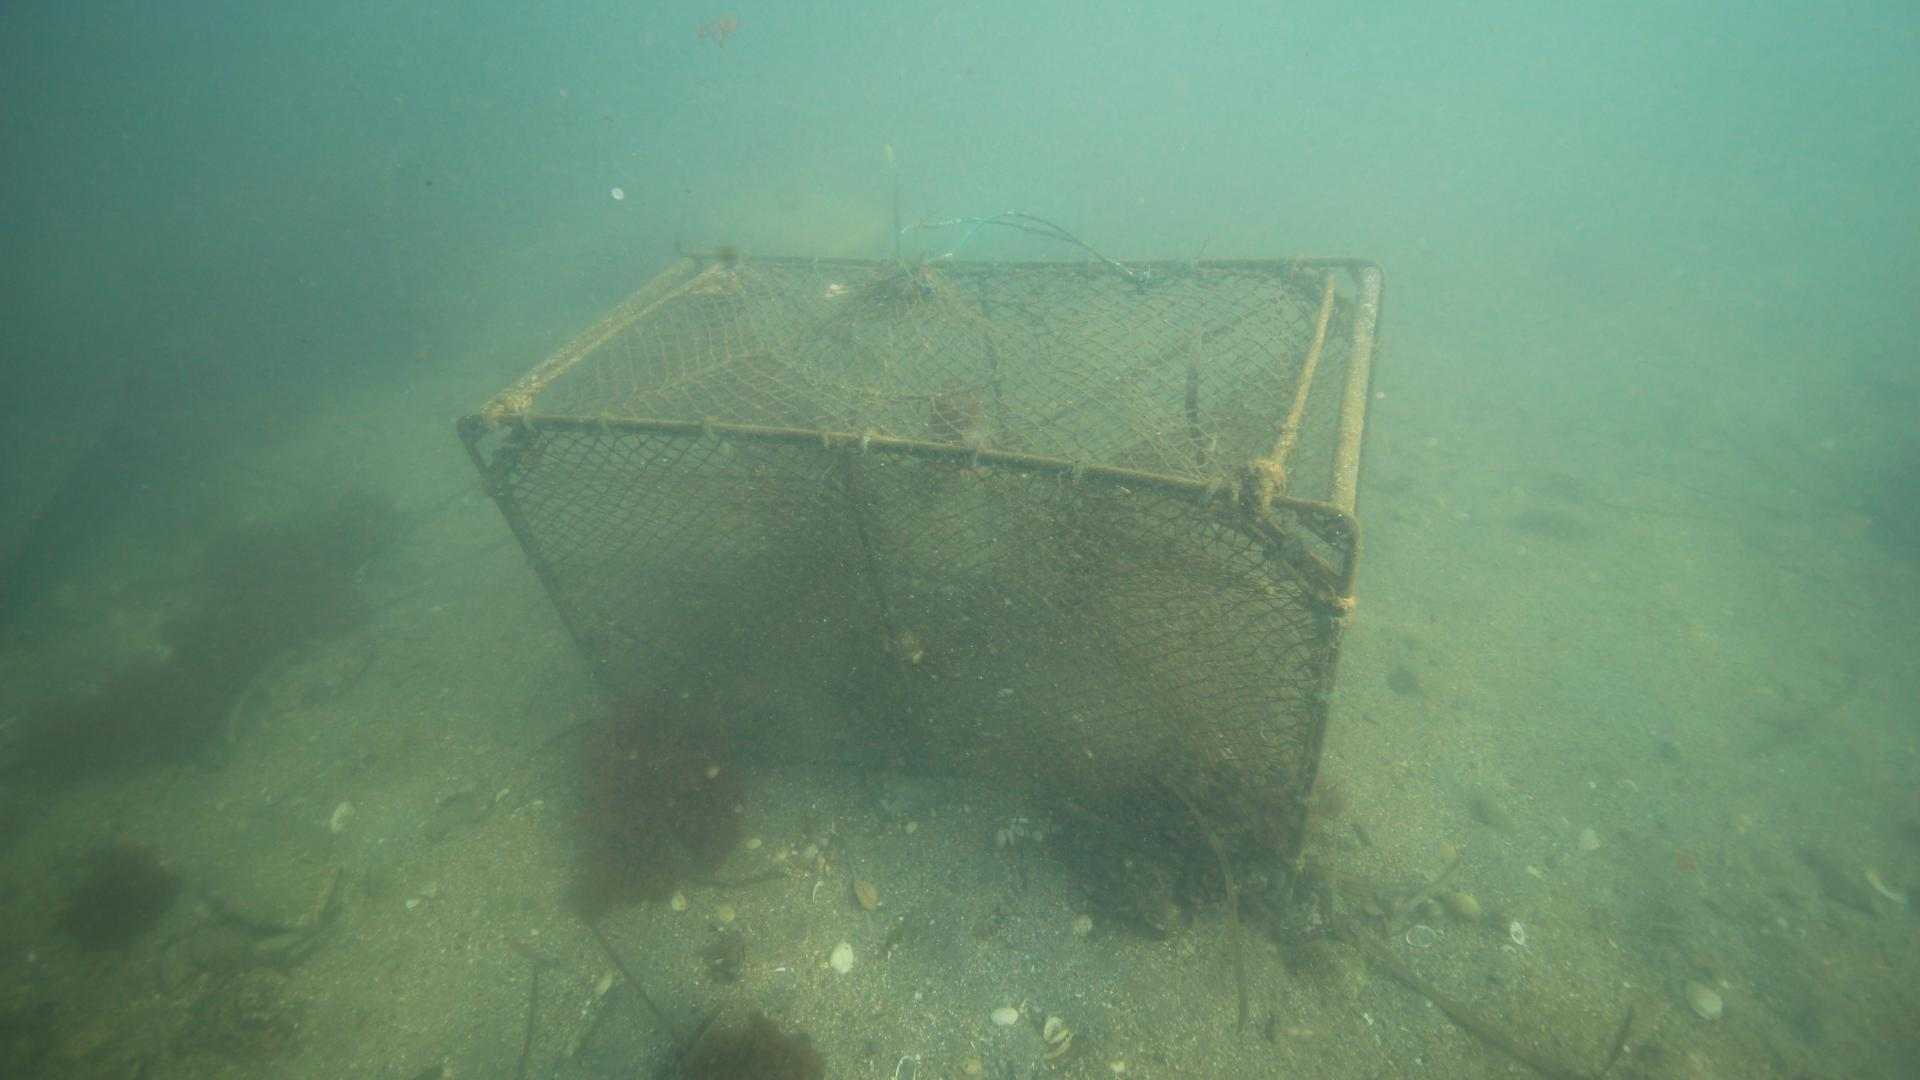rectangular fish trap: (452, 245, 1390, 861)
